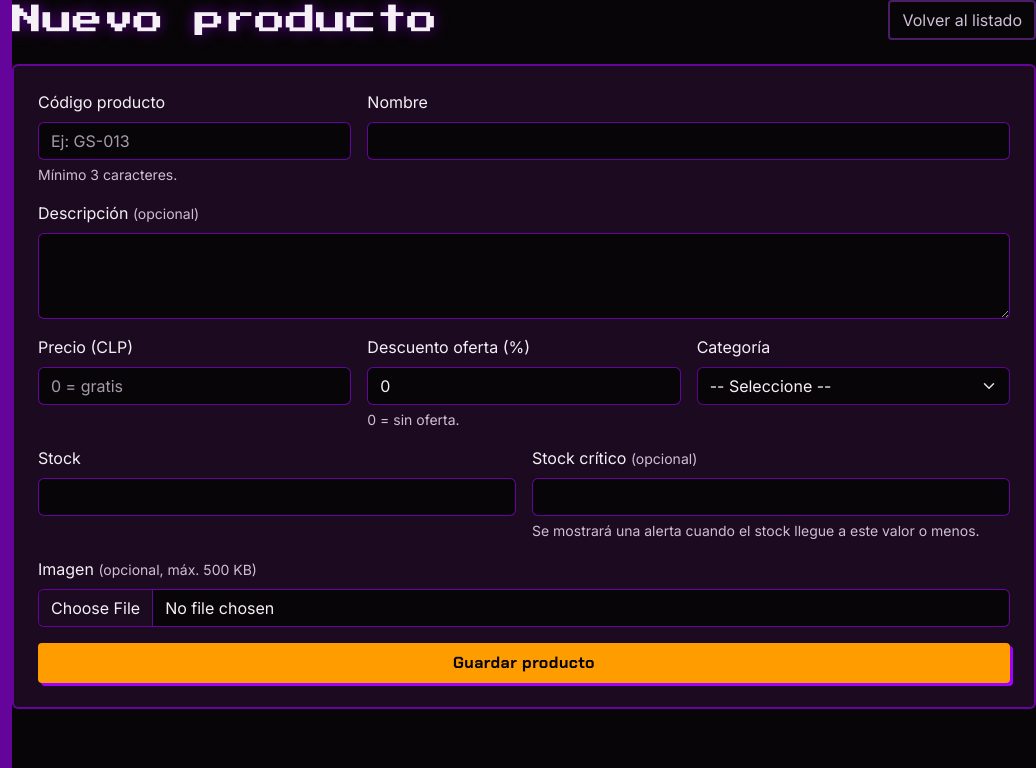
Test: Panel admin: Productos › no crea el producto si el código ya existe
Type "GS-001" into the field labelled "Código producto" at coordinates (195, 141), box [38,122,351,160]
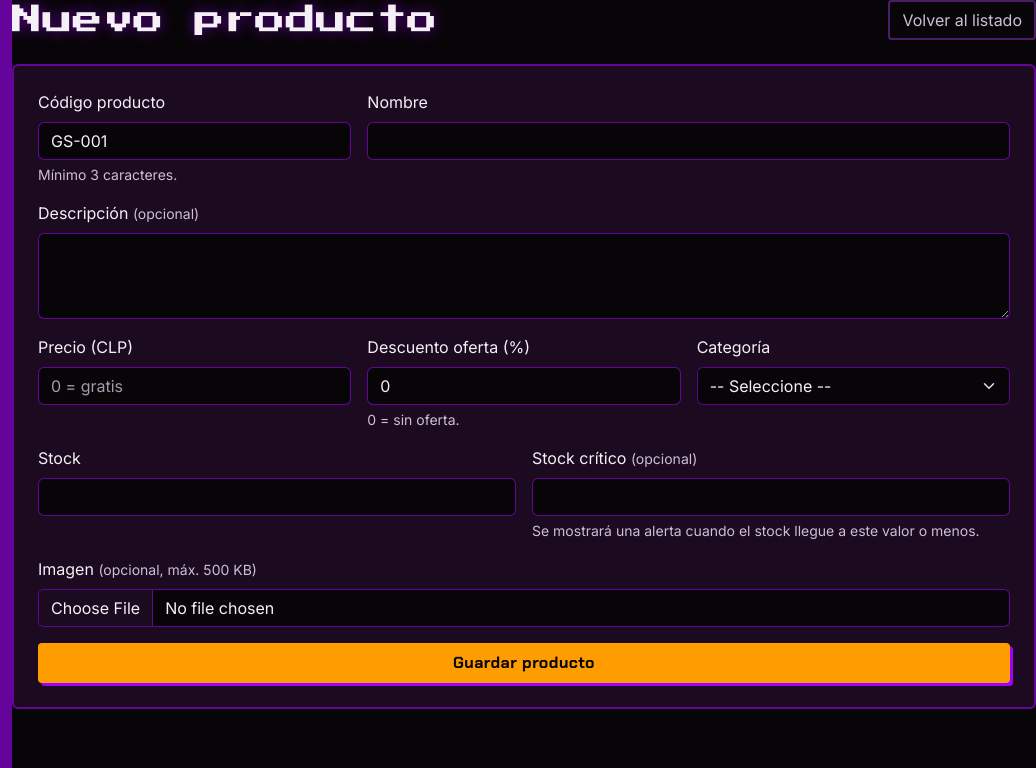
Type "Duplicado" into the field labelled "Nombre" at coordinates (689, 141), box [367,122,1010,160]
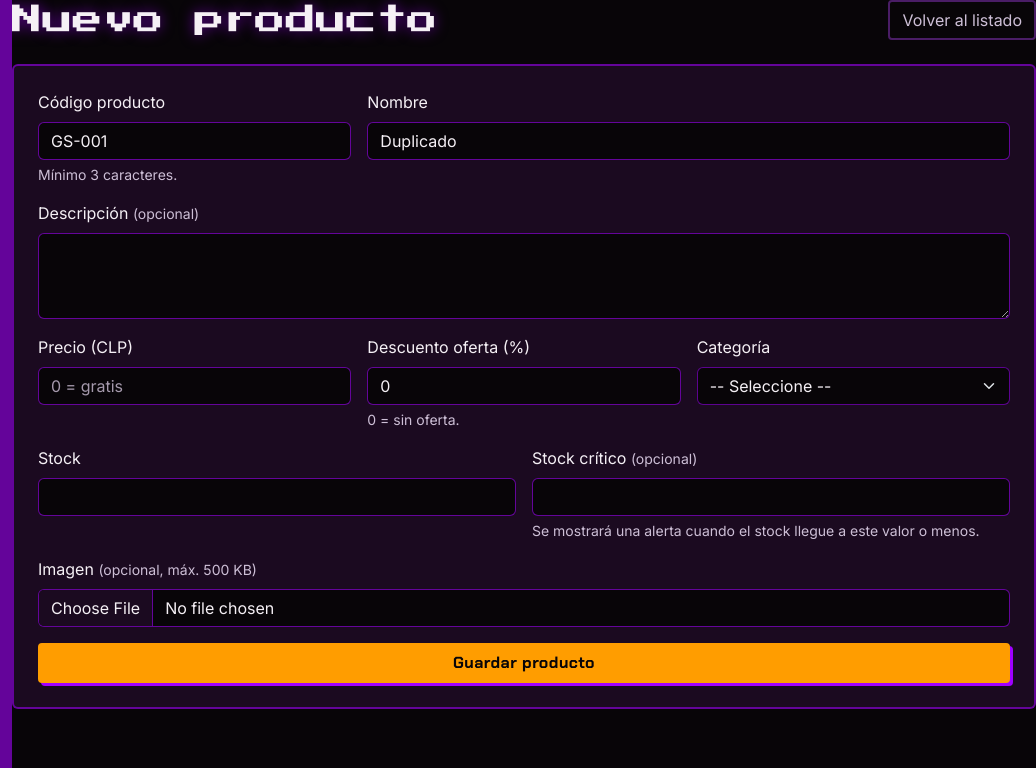
Type "1000" into the number field labelled "Precio (CLP)" at coordinates (195, 386), box [38,367,351,405]
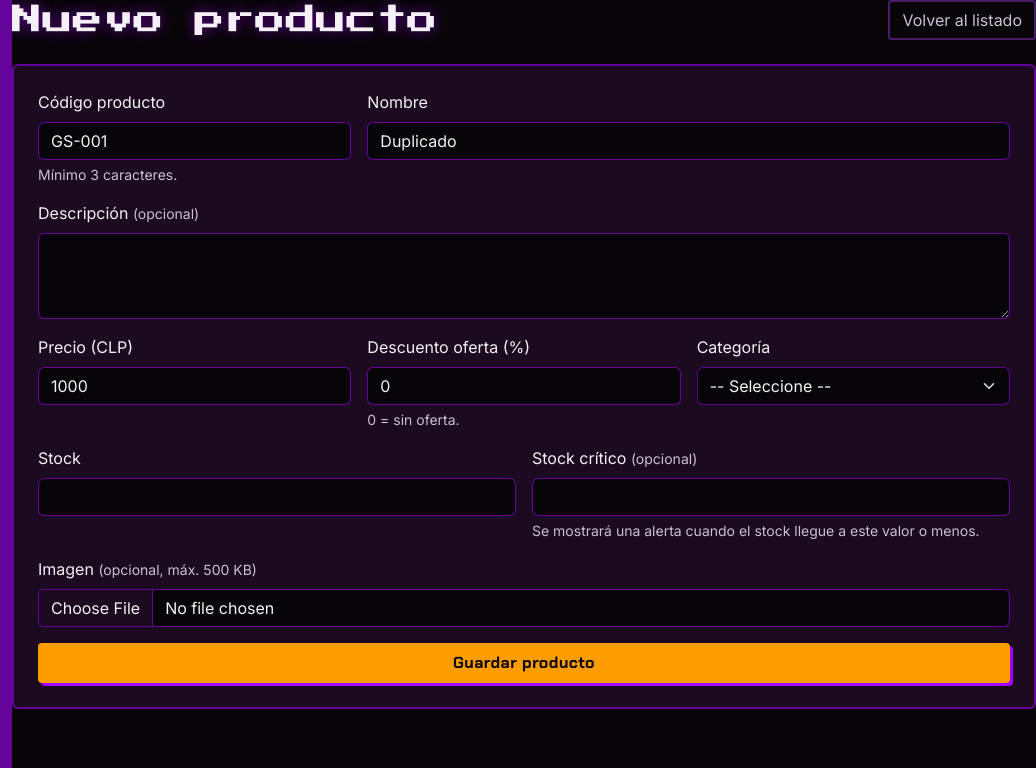
Type "1" into the number field labelled "Stock" at coordinates (277, 497), box [38,478,516,516]
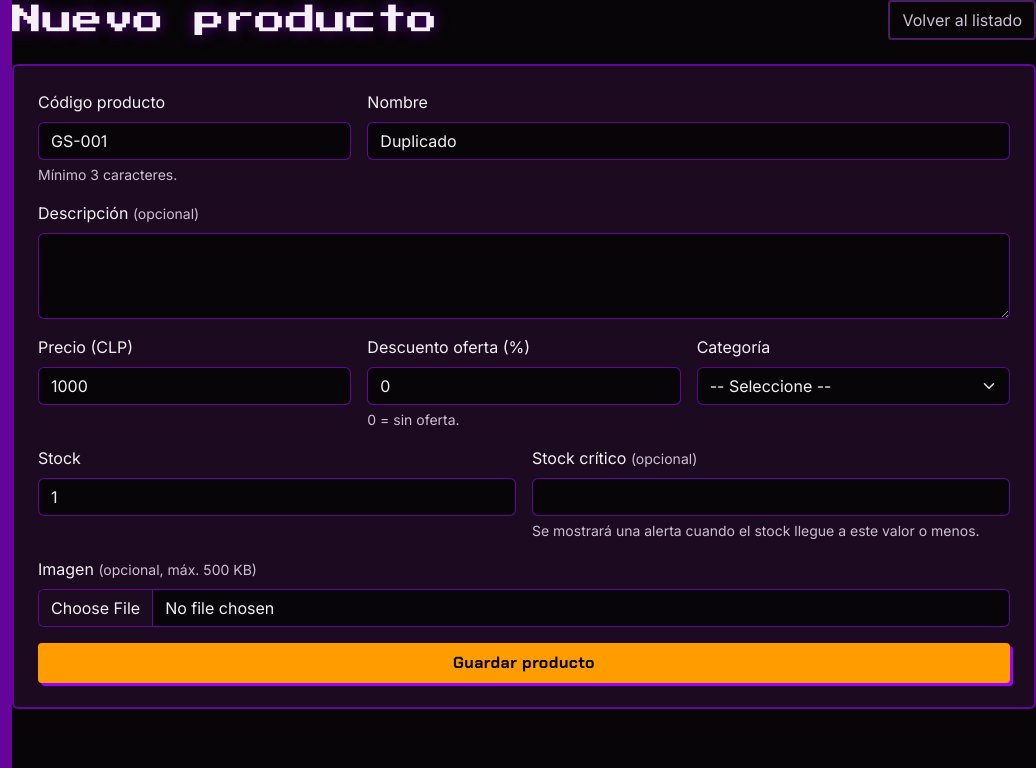
Select "Indie" in the dropdown labelled "Categoría" at coordinates (853, 386), box [697,367,1010,405]
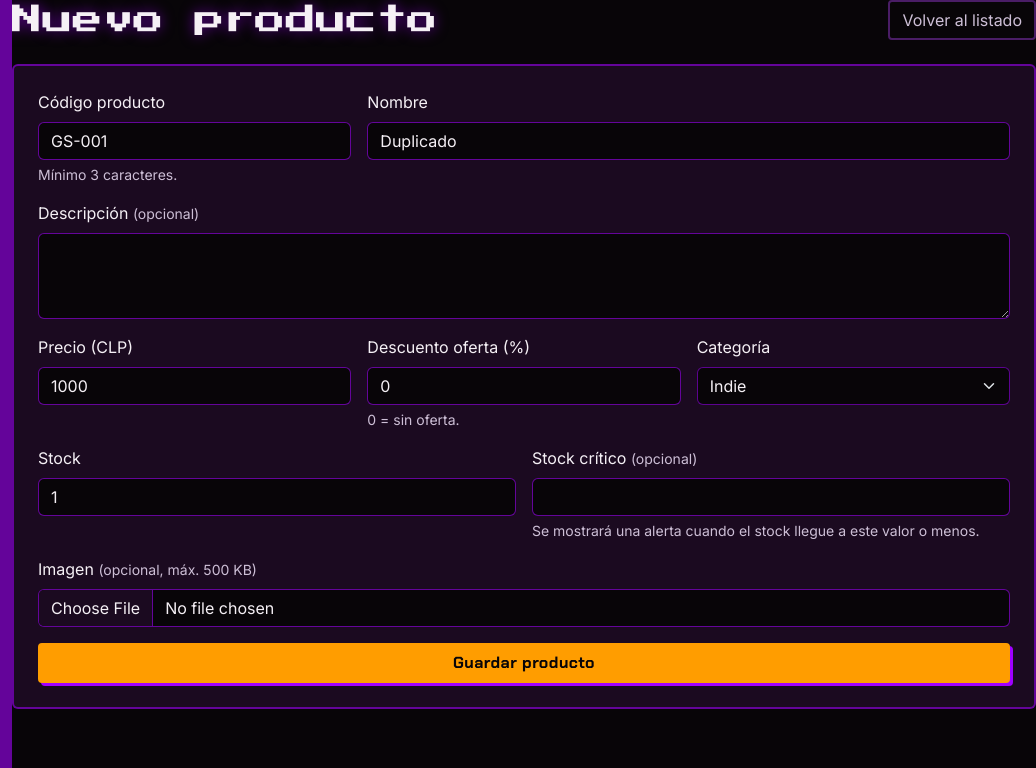
Click the button "Guardar producto" at coordinates (524, 663), box [38,643,1010,683]
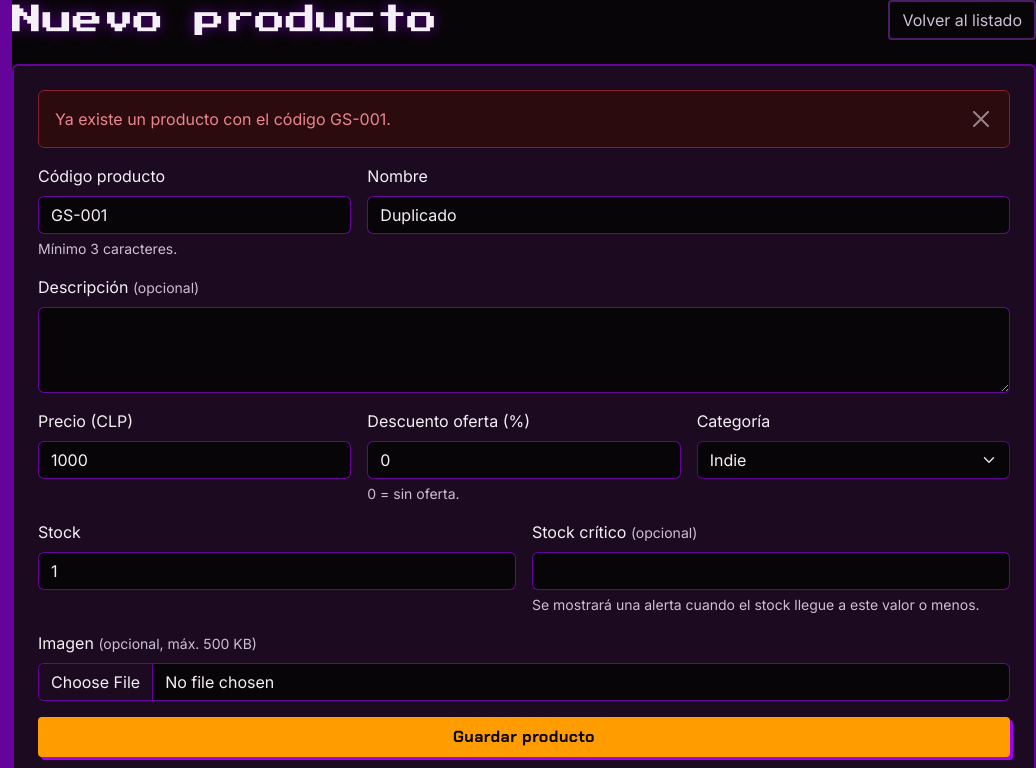
Check: the text "Ya existe un producto con el código GS-001." is shown, box [55,107,391,131]
